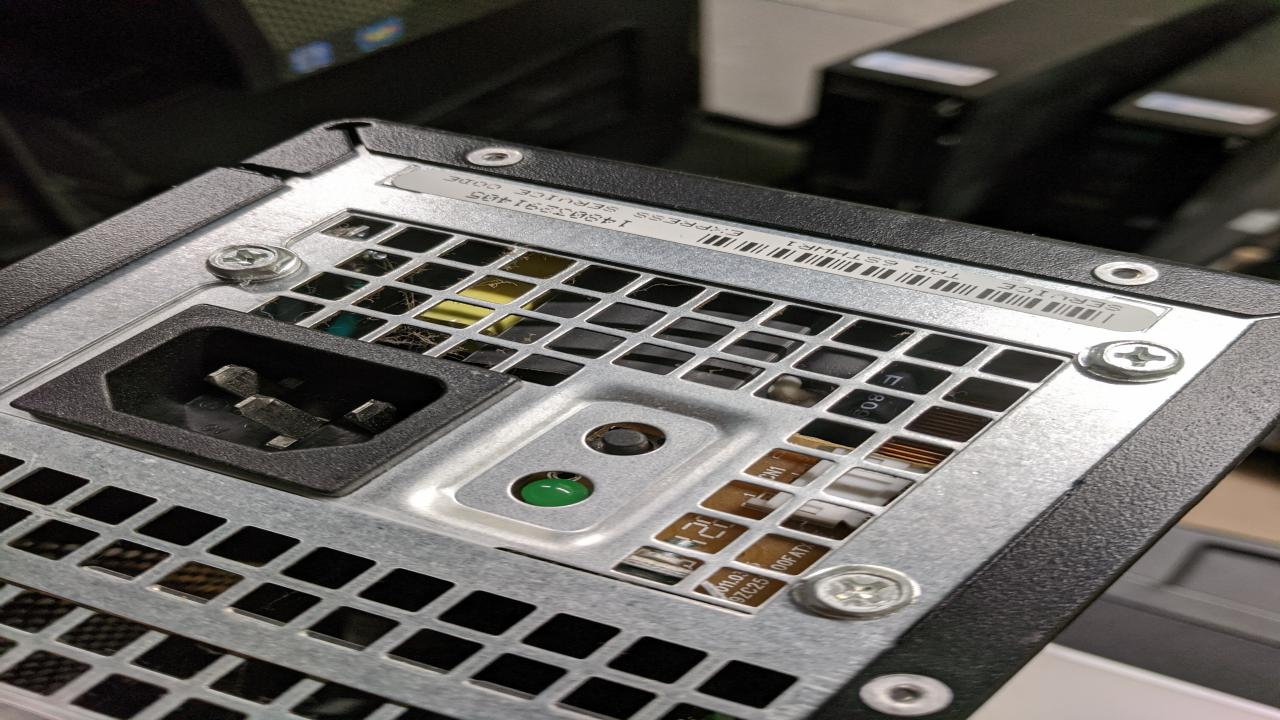CRS: (800, 567, 919, 618), (1082, 336, 1187, 382), (203, 243, 285, 276)
